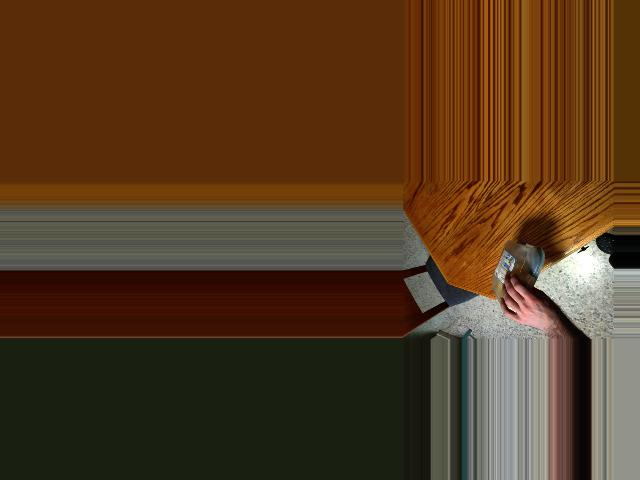cheese: (496, 248, 537, 300)
